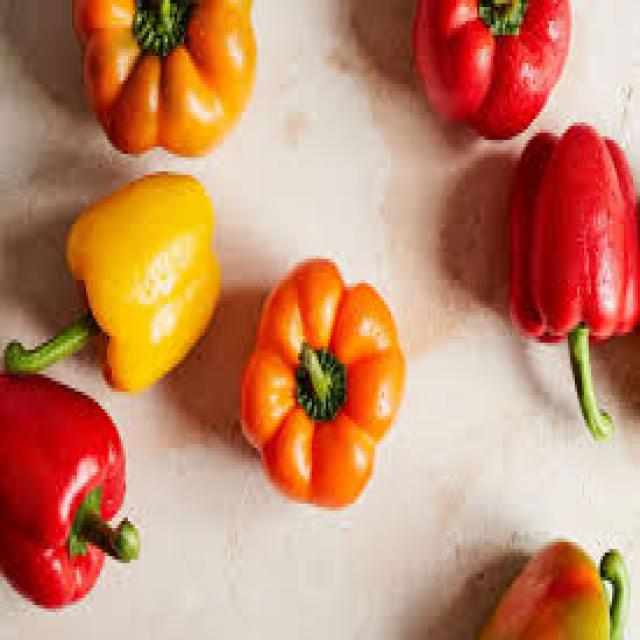Bell pepper: (239, 238, 439, 605), (18, 157, 245, 379), (505, 114, 640, 458), (0, 363, 154, 611), (68, 0, 263, 149), (407, 0, 582, 147)
